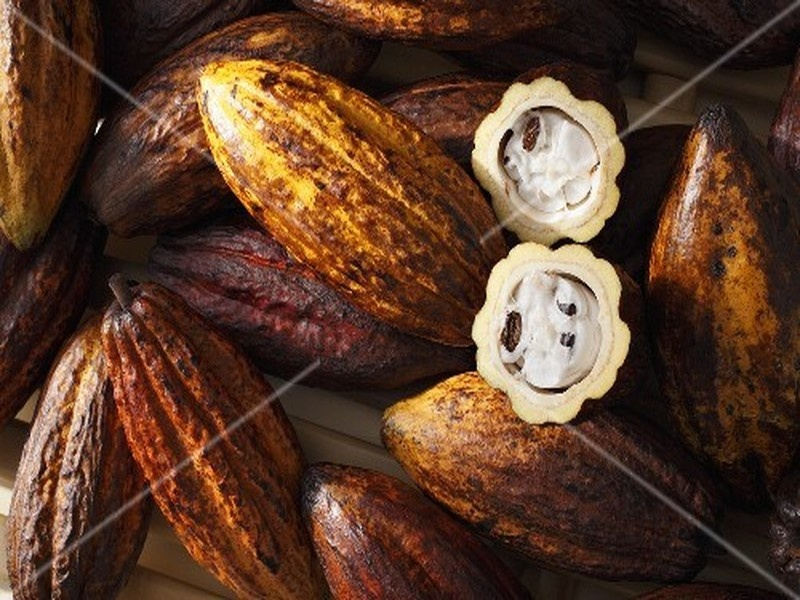Cacaopod: (190, 61, 519, 347), (97, 286, 331, 597), (637, 107, 800, 529)
